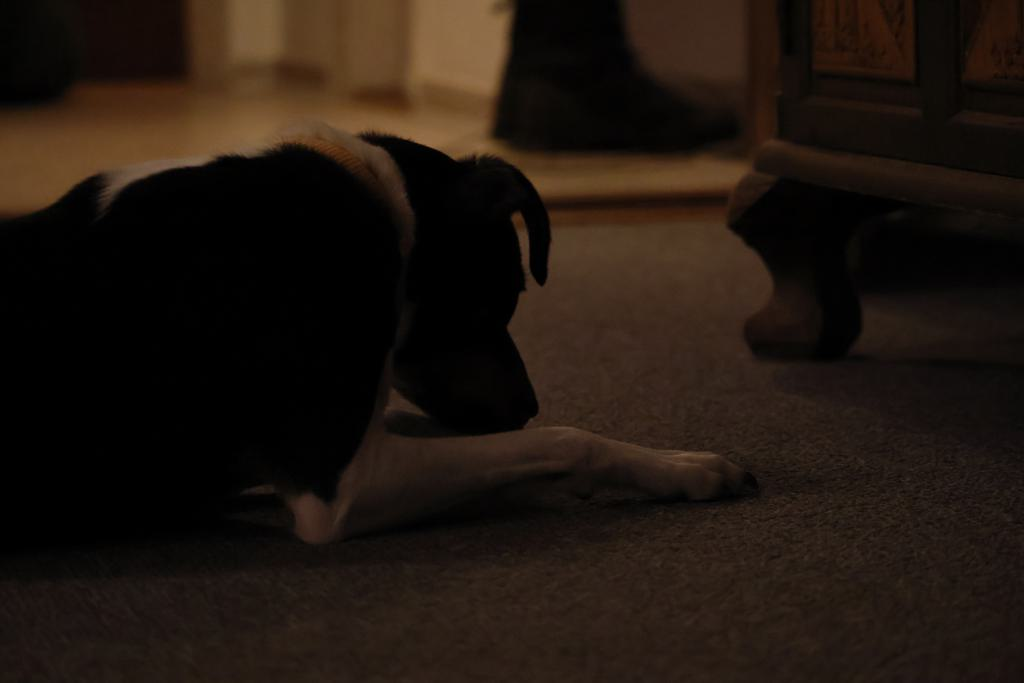Dog: (0, 112, 779, 574)
